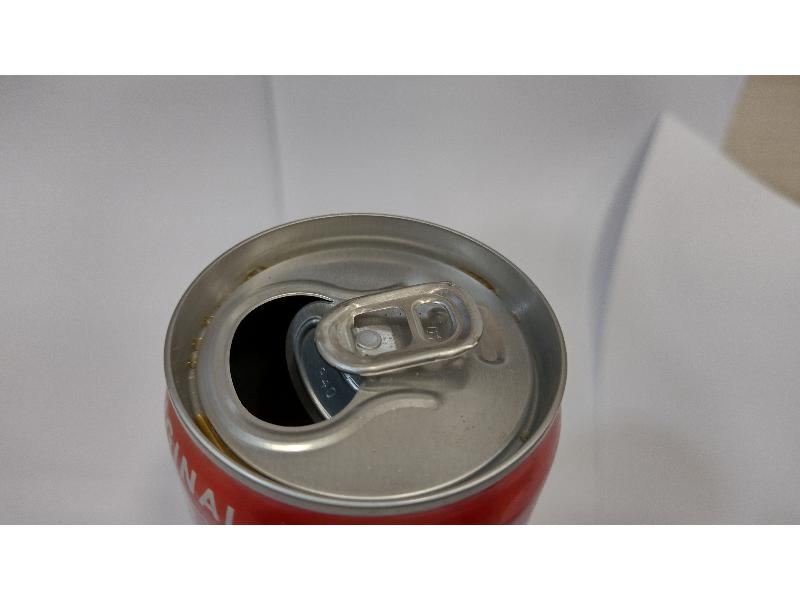can: (160, 204, 568, 520)
